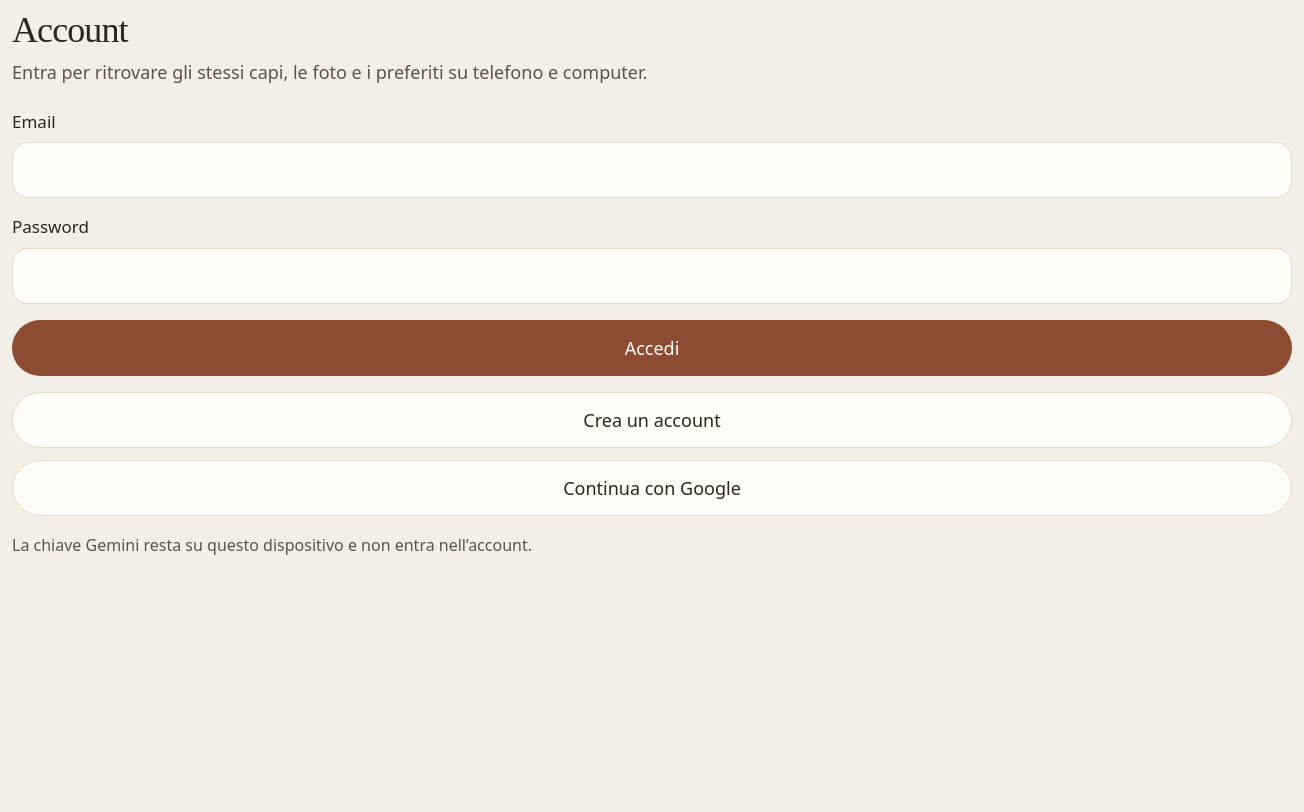
Test: account › mostra Accedi, Crea un account e Google, e li chiama solo al tocco
The image size is (1304, 812).
Later steps or results of the test are not shown.
Click the button "Accedi" at (652, 348), box [12, 320, 1292, 376]
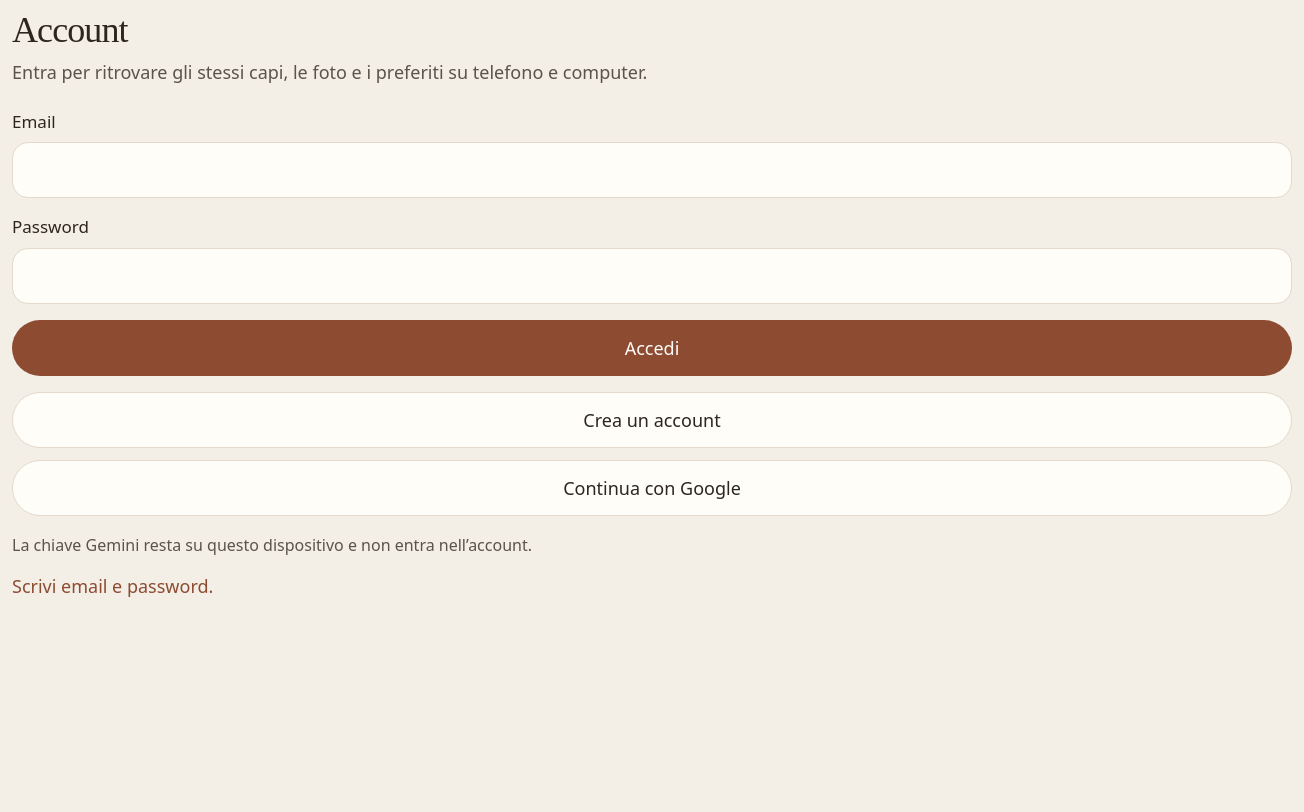
Now the text "Scrivi email e password." is shown, box [12, 574, 213, 598]
Type "raffaele@example.com" into the field labelled "Email" at (652, 170), box [12, 142, 1292, 198]
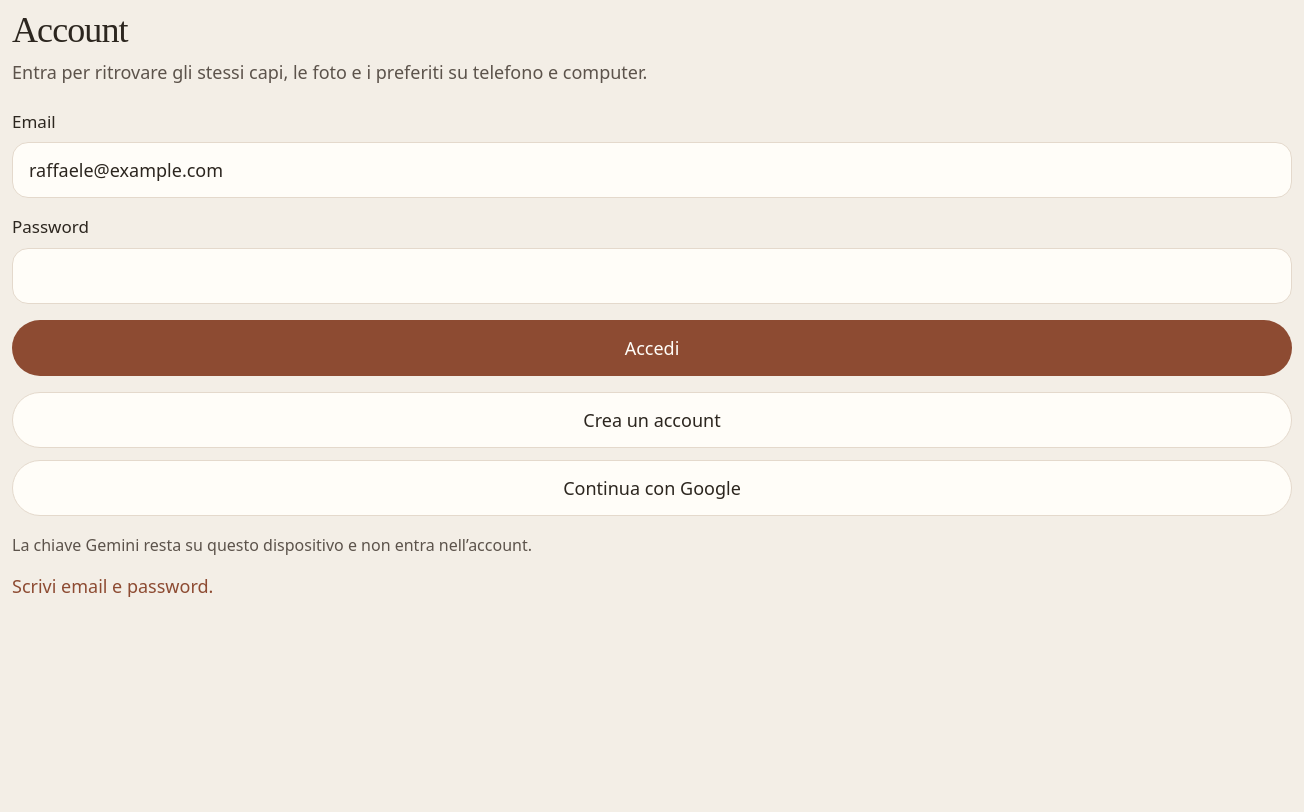
Type "123" into the password field labelled "Password" at (652, 276), box [12, 248, 1292, 304]
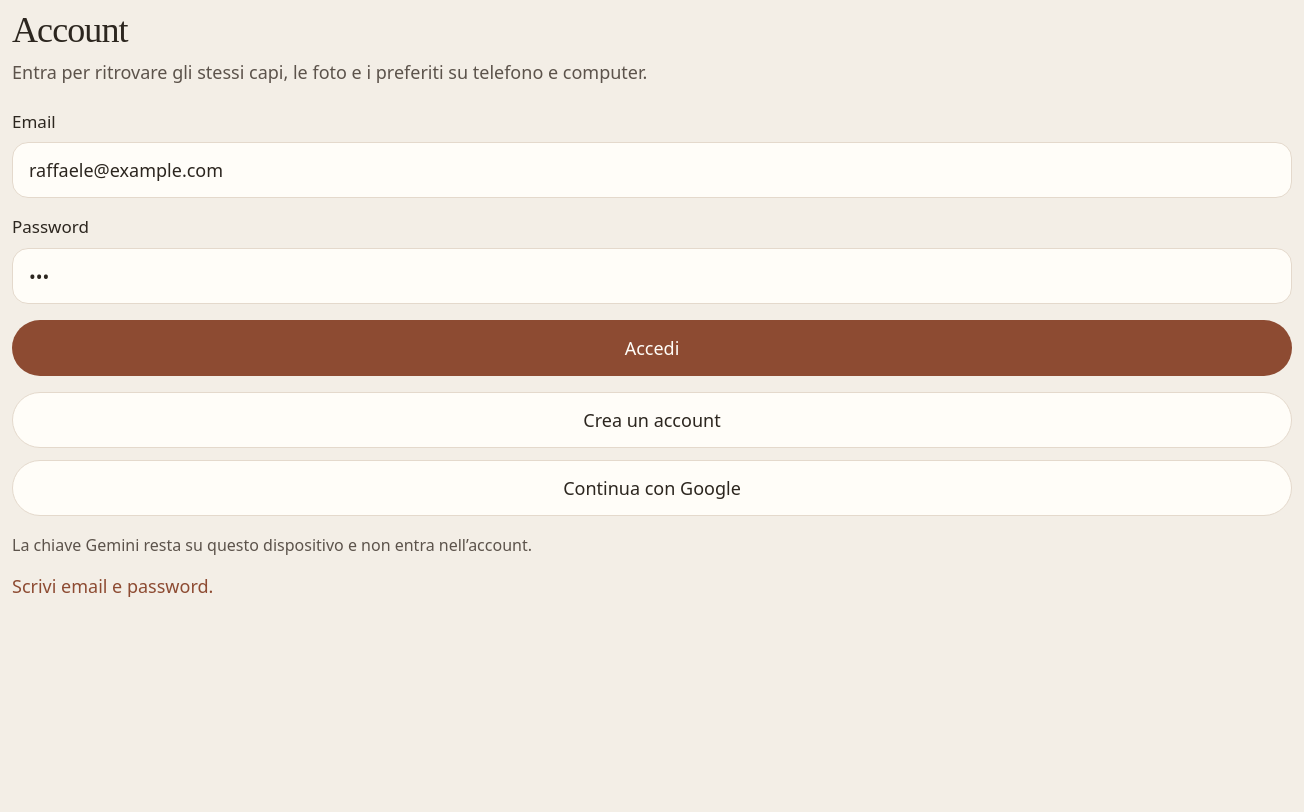
Click the button "Crea un account" at (652, 420), box [12, 392, 1292, 448]
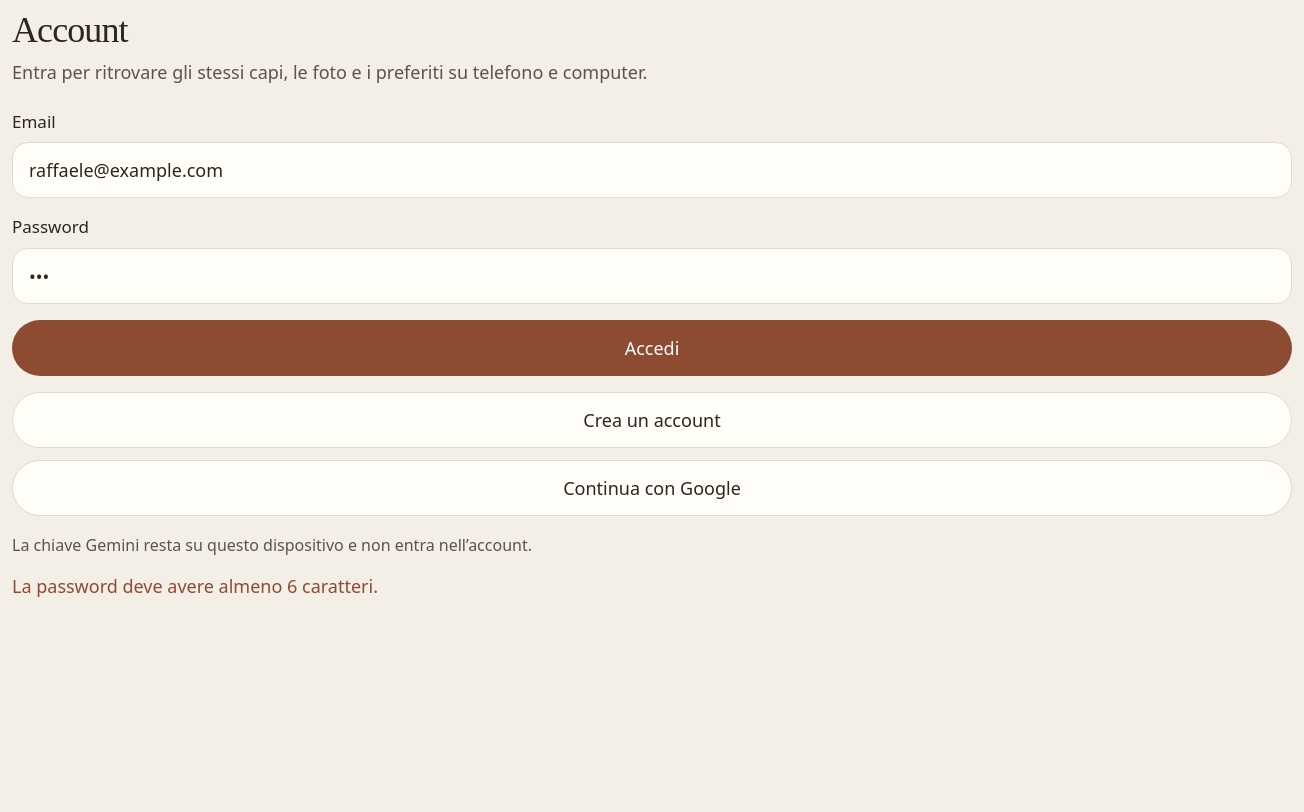
Now the text "La password deve avere almeno 6 caratteri." is shown, box [12, 574, 378, 598]
